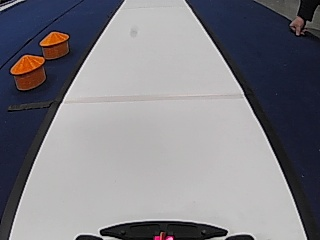granary: (8, 52, 46, 91), (37, 29, 70, 59)
